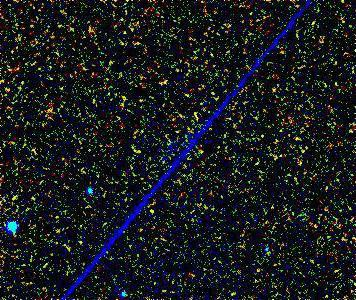star: (136, 197, 166, 227)
